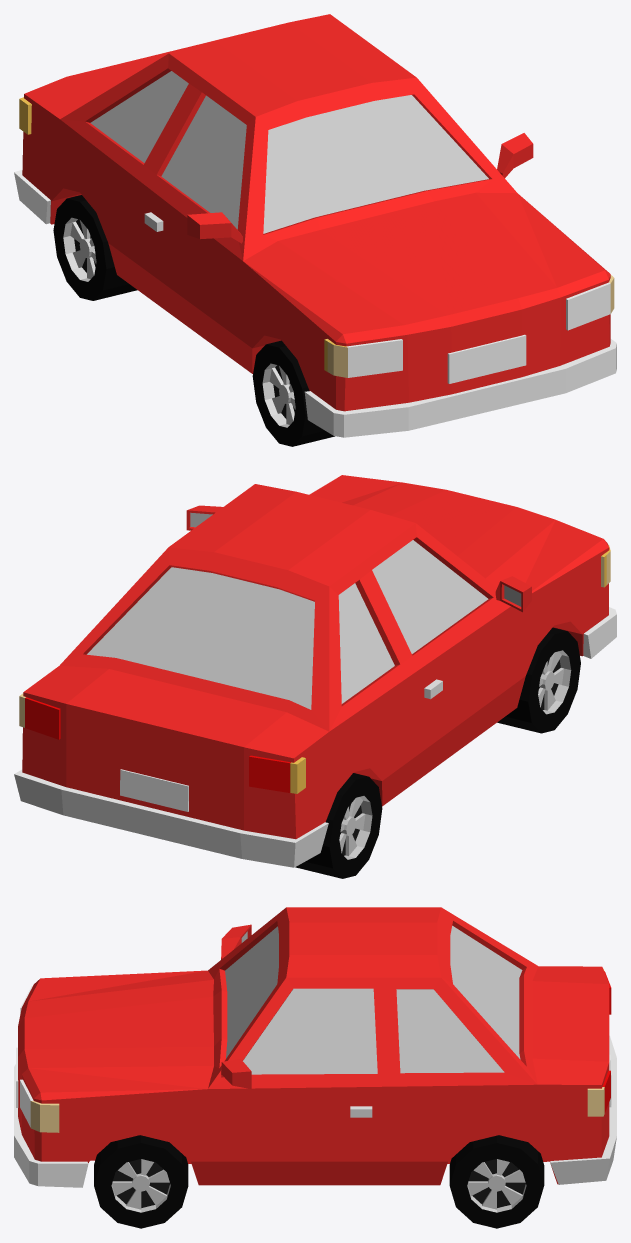
The model's file is Car-01-F.fbx.
3 views of the same model, one above another, from view 1: azimuth 30°, elevation 25°; view 2: azimuth 150°, elevation 25°; view 3: azimuth 270°, elevation 25° (orthographic). The views are drawn at different scales.
Parts seen in each view (by area): view 1: Car-01, BR, FR, High-Beam, Light-Right; view 2: Car-01, BR, FR, Break-Light; view 3: Car-01, BL, FL, Light-Left.
Boxes of the visible parts, <box> form: Car-01: <box>14,14,616,437</box>; BR: <box>53,195,137,300</box>; FR: <box>252,340,334,446</box>; High-Beam: <box>346,282,610,377</box>; Light-Right: <box>326,339,347,377</box>; Car-01: <box>14,475,616,867</box>; BR: <box>295,773,382,878</box>; FR: <box>497,627,580,733</box>; Break-Light: <box>25,697,290,792</box>; Car-01: <box>14,907,616,1187</box>; BL: <box>449,1135,544,1228</box>; FL: <box>94,1135,188,1228</box>; Light-Left: <box>30,1087,604,1132</box>.
Bounding box in the file's own units: 2.45 × 1.79 × 4.26.
